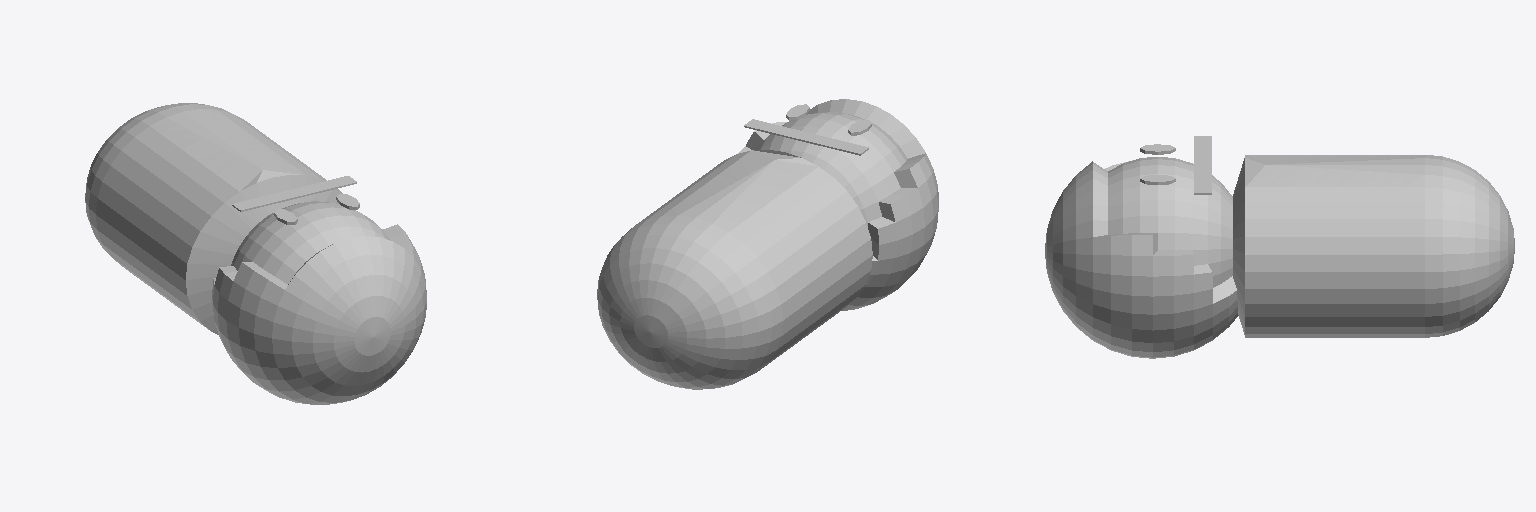
The model's file is Greenate Body.obj.
3 renders of one model, left to right at view 1: azimuth 30°, elevation 25°; view 2: azimuth 150°, elevation 25°; view 3: azimuth 270°, elevation 25°, orthographic.
Visible parts, largest first — view 1: Greenate_Character; view 2: Greenate_Character; view 3: Greenate_Character.
Boxes of the visible parts, x1,y1,x2,y2 form: Greenate_Character: [85, 103, 426, 404]; Greenate_Character: [597, 99, 938, 389]; Greenate_Character: [1045, 136, 1514, 358].
Size of the model in its own units: 1.2 by 1.14 by 2.62.